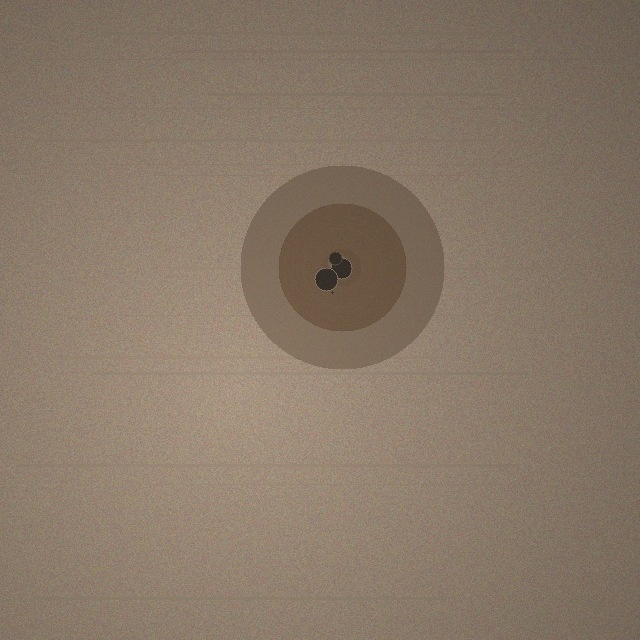shrinkage: (240, 165, 444, 369)
